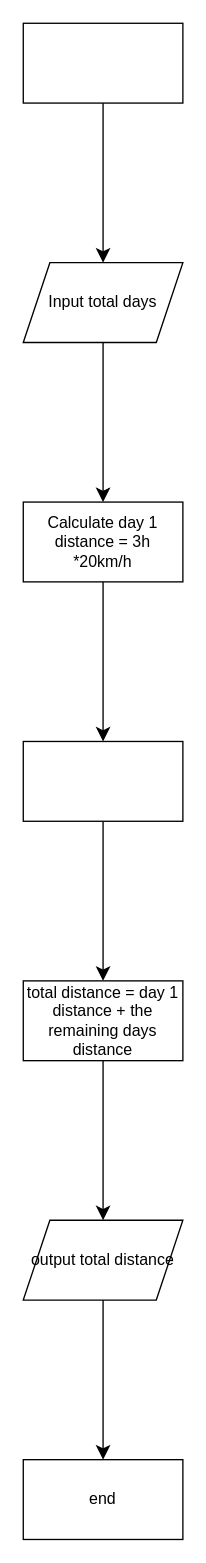
Some shapes in this 206 by 1563 pixel diagram are drawn without their labels. The shapes that lost their labels are listed below. From the top down, each one's centre as x and y in pixels, then its label:
point (102, 62): START
point (102, 780): Calculate the remaining days
